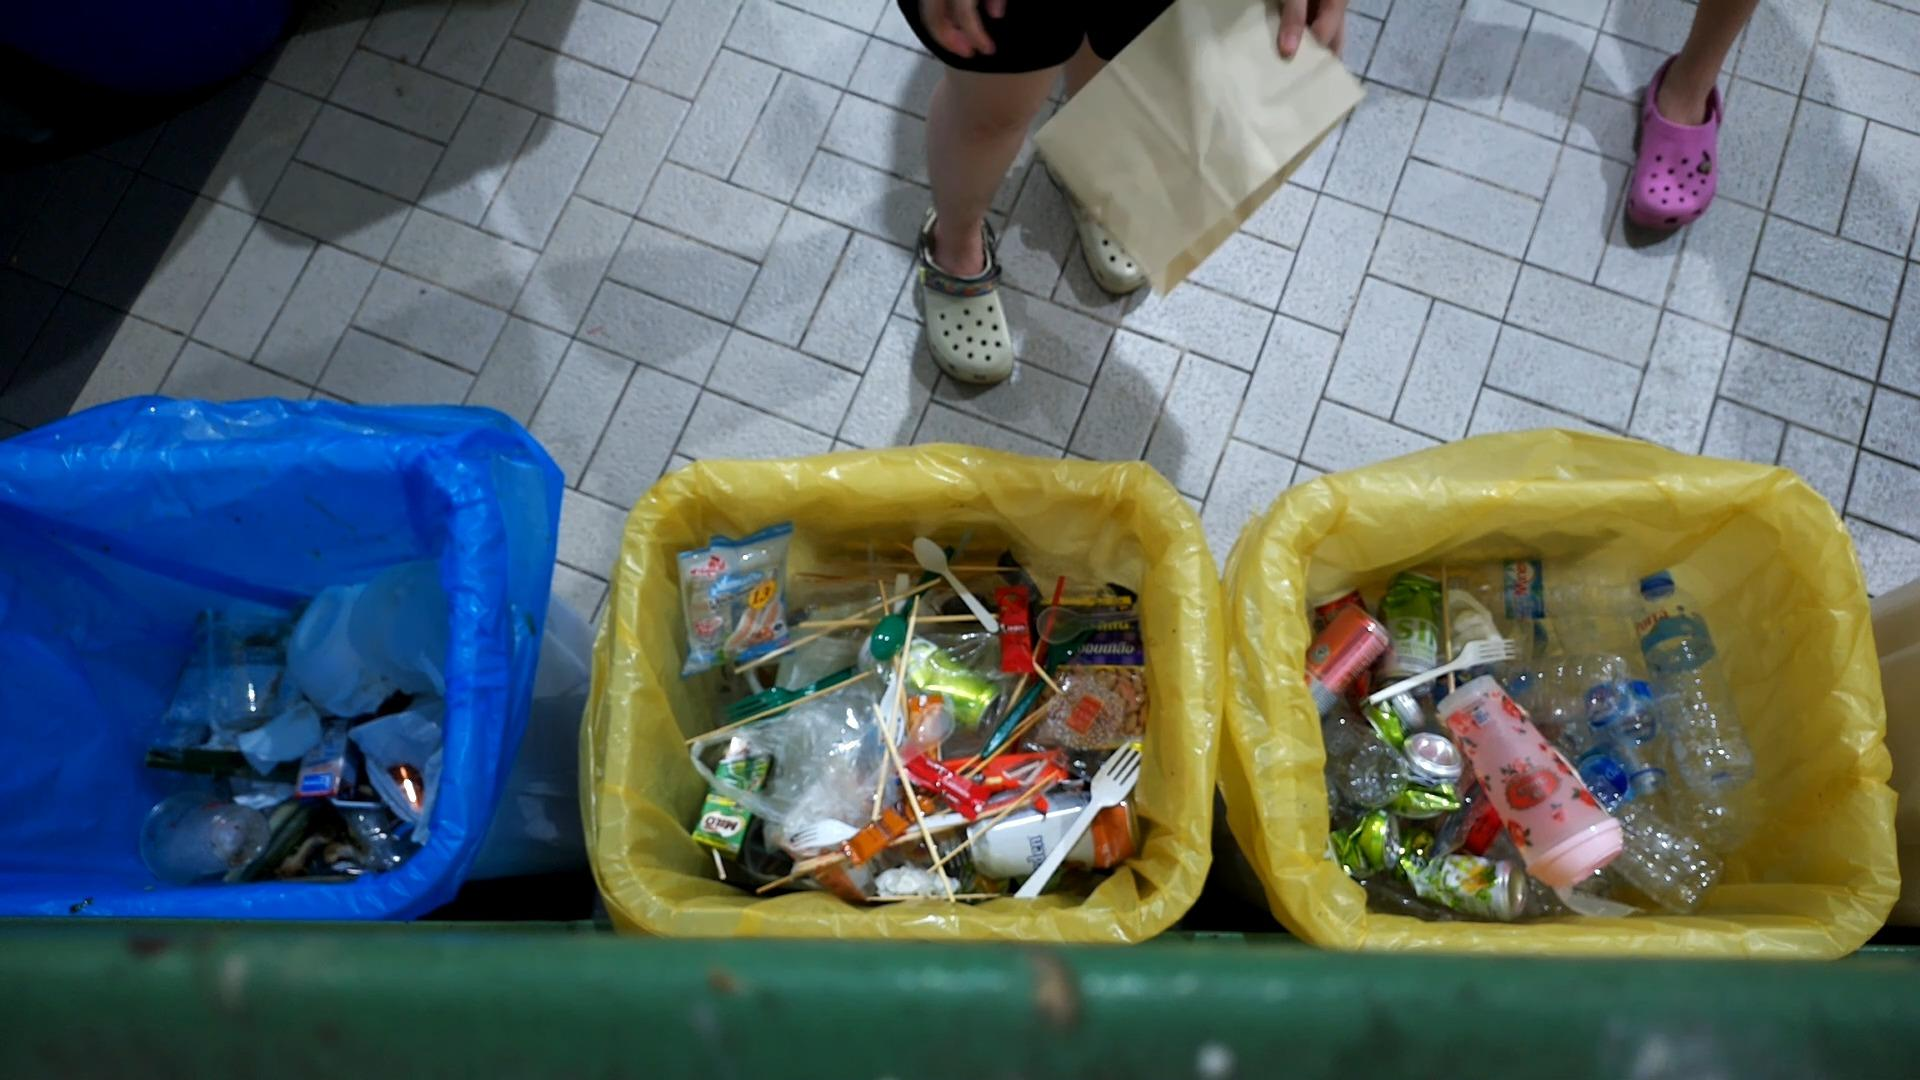can: (964, 786, 1146, 880), (1383, 824, 1530, 924), (887, 632, 1005, 737), (1304, 600, 1398, 719), (1370, 567, 1451, 698), (1382, 729, 1468, 823), (1328, 808, 1403, 886), (1354, 679, 1428, 756)
food container: (281, 578, 369, 711)
milk carton: (690, 736, 774, 881), (291, 715, 382, 812)
paper bag: (1023, 0, 1373, 295)
plastic bag: (686, 626, 1026, 857), (342, 556, 452, 704)
plastic bottle: (1629, 562, 1758, 796), (1553, 608, 1671, 796), (1576, 775, 1730, 918), (1445, 550, 1650, 624), (1311, 703, 1415, 812), (1487, 653, 1636, 727)
plastic cup: (1435, 667, 1627, 897), (135, 785, 274, 889), (185, 612, 284, 731)
plastic cutlery: (1013, 741, 1142, 901), (978, 617, 1100, 761), (1366, 633, 1520, 708), (866, 541, 957, 666), (719, 661, 864, 732), (858, 702, 960, 795), (909, 533, 1002, 633), (783, 810, 968, 852), (1422, 767, 1490, 865), (877, 567, 911, 748), (1033, 603, 1141, 649)
snack packaging: (1021, 589, 1151, 756), (670, 517, 798, 683), (1021, 655, 1145, 781), (932, 748, 1068, 822), (836, 790, 938, 872), (994, 571, 1068, 680), (898, 748, 994, 825)
sticks: (733, 576, 948, 676), (872, 702, 960, 907), (682, 667, 877, 746), (753, 823, 956, 895), (924, 767, 1060, 876), (868, 592, 923, 824), (955, 698, 1055, 777), (965, 698, 1058, 782), (876, 576, 913, 736), (794, 611, 1001, 628), (1437, 562, 1458, 696), (864, 891, 1011, 905)
tissue paper: (235, 698, 330, 777), (1445, 587, 1509, 665), (869, 862, 964, 901), (225, 767, 298, 815)
